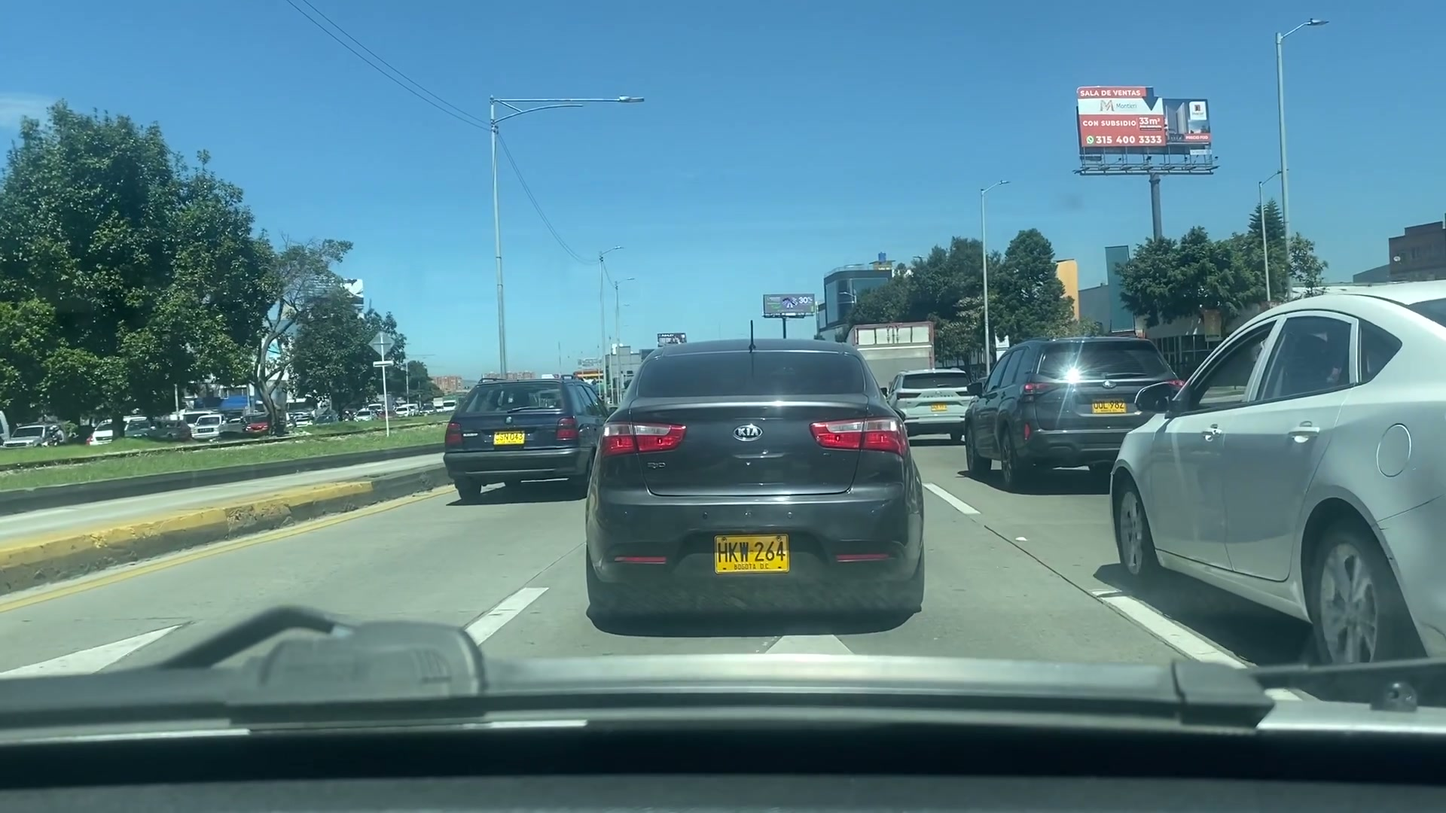car: (1116, 275, 1446, 689), (583, 342, 925, 623), (969, 336, 1183, 480), (443, 376, 616, 500), (890, 371, 974, 438)
truck: (847, 326, 938, 391)
